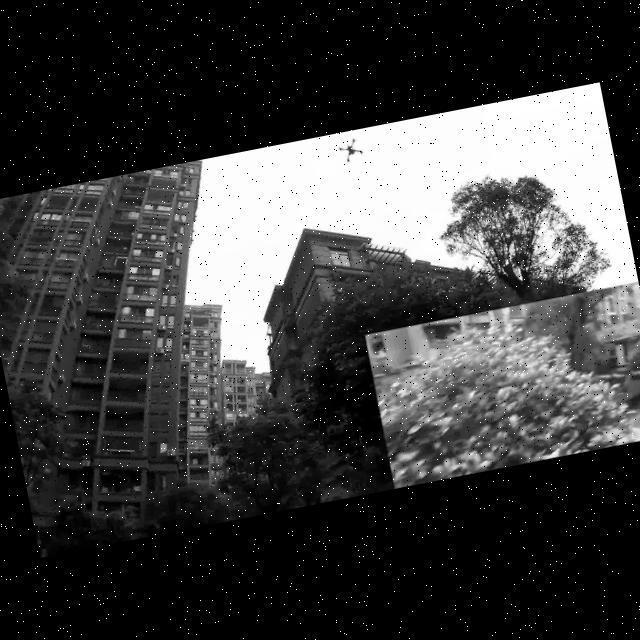Drons: (339, 138, 365, 168)
